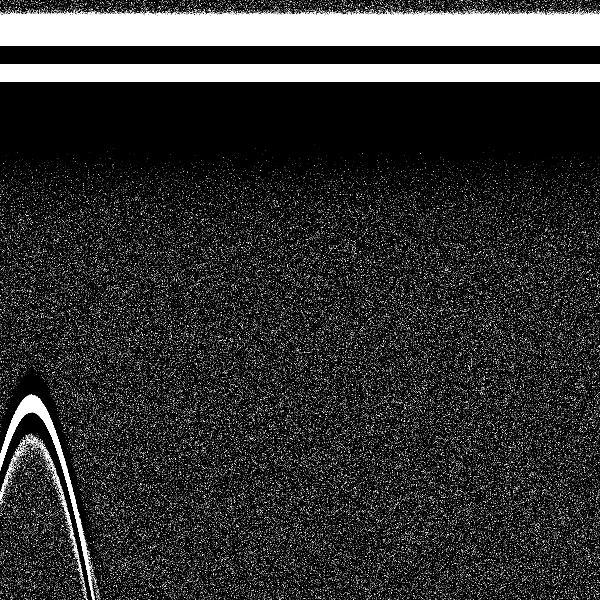pipe: (1, 6, 82, 476)
